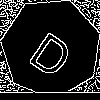D: (26, 23, 81, 80)
